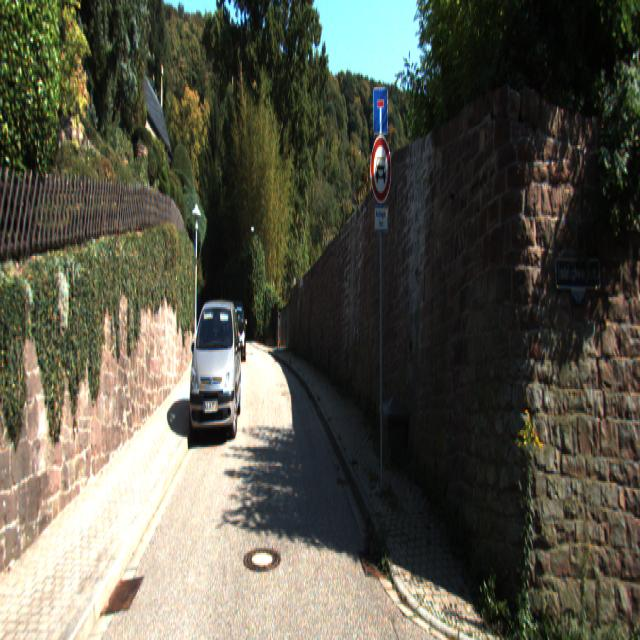Car: (188, 290, 243, 447), (222, 302, 248, 368)
